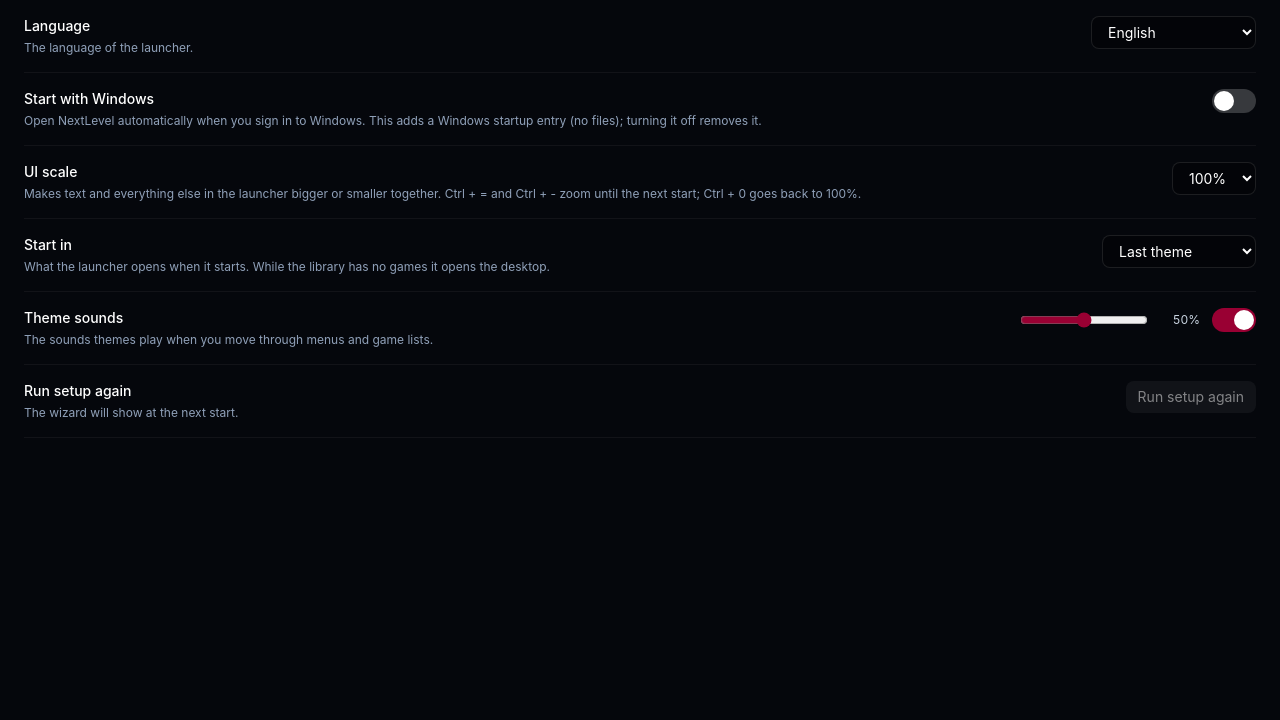
Test: GeneralSection › CONFLICT shows the conflict message and reloads the settings
Click the switch named "Start with Windows" in the row of "Start with Windows": (1234, 101) left=1212, top=89, right=1256, bottom=113
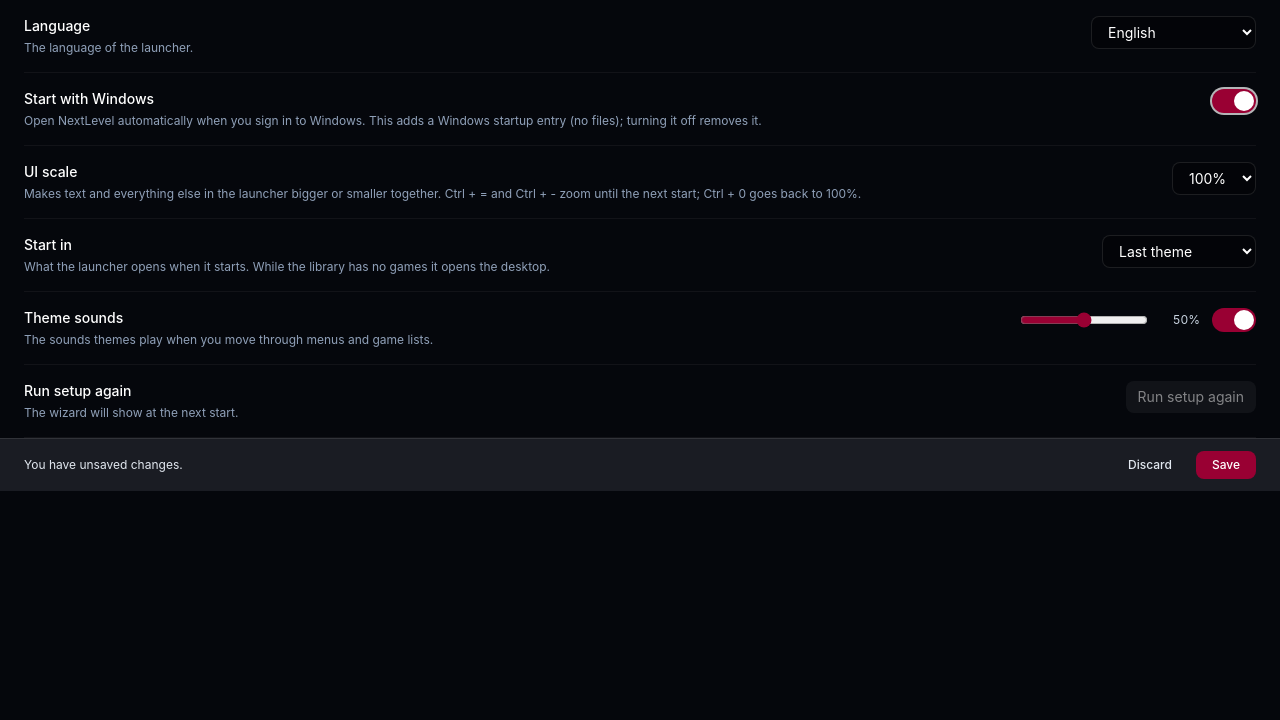
Click the button "Save": (1226, 465) left=1196, top=451, right=1256, bottom=479
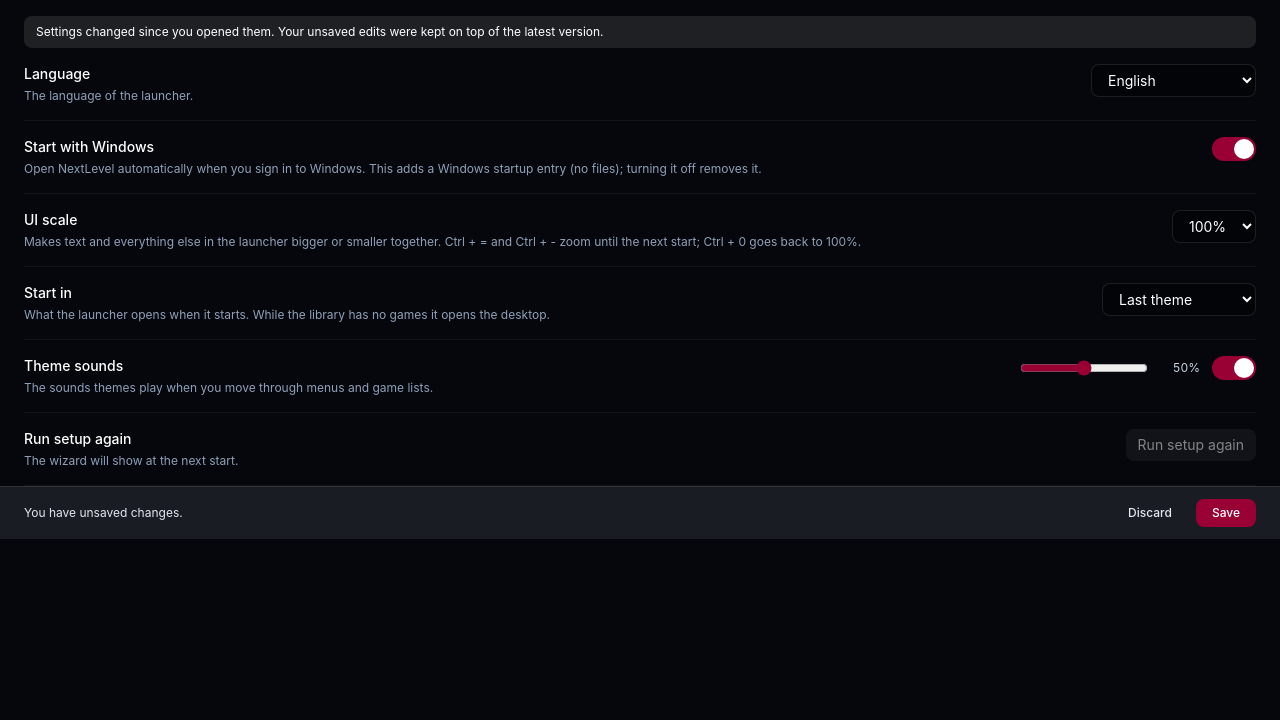
Expected: the text "Settings changed since you opened them. Your unsaved edits were kept on top of the latest version." is shown, left=36, top=24, right=604, bottom=39
